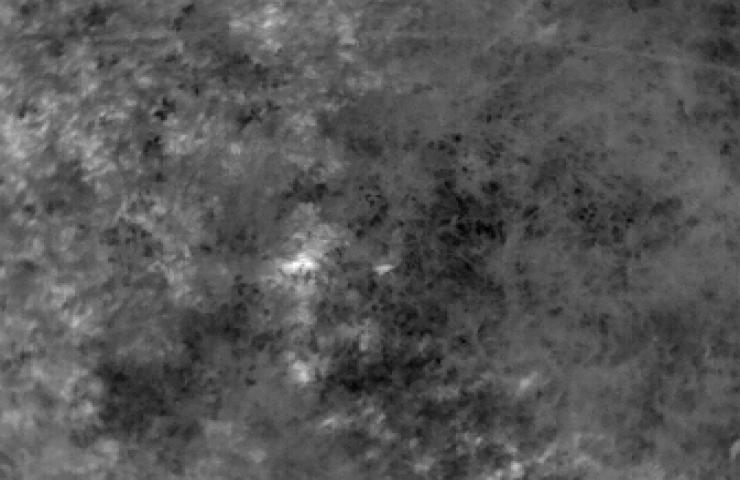landmines: (274, 251, 332, 301)
